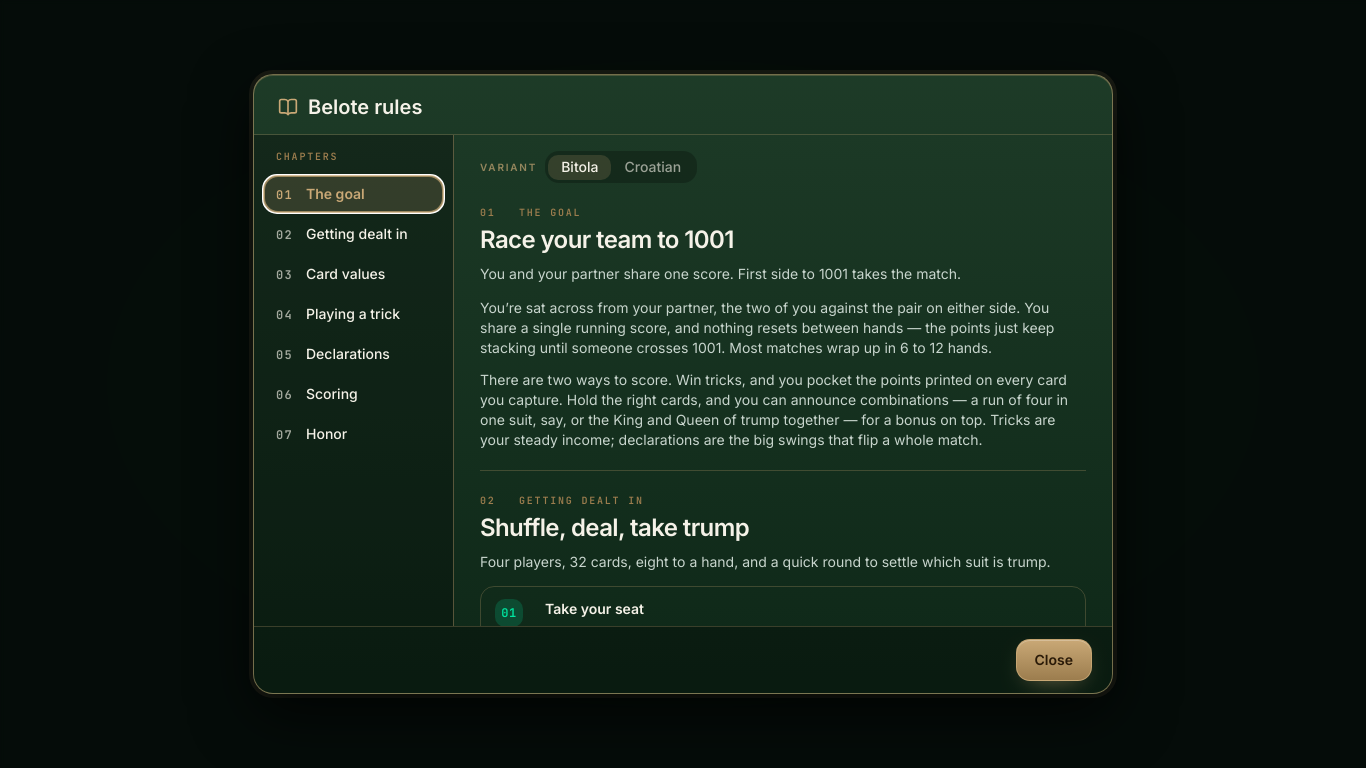
Test: RulesDialog (in-game) › swaps only the scoped blocks when the tab is switched by hand
This screenshot has width=1366, height=768.
Click the tab with test id "rules-dialog-variant-croatia". click: (653, 167)
box: [612,154,694,180]
(page scrolled)
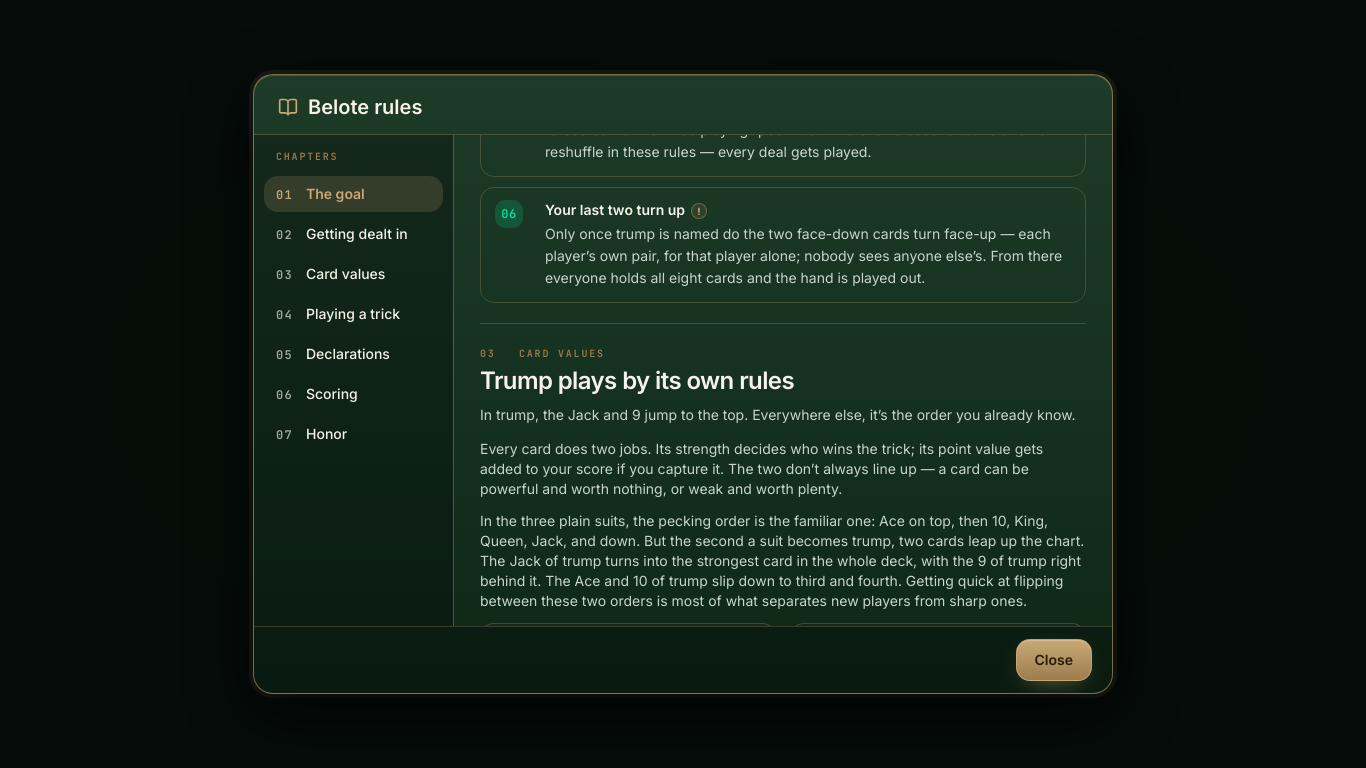
Expected: the heading "Trump plays by its own rules" is shown, [480,366,794,395]
